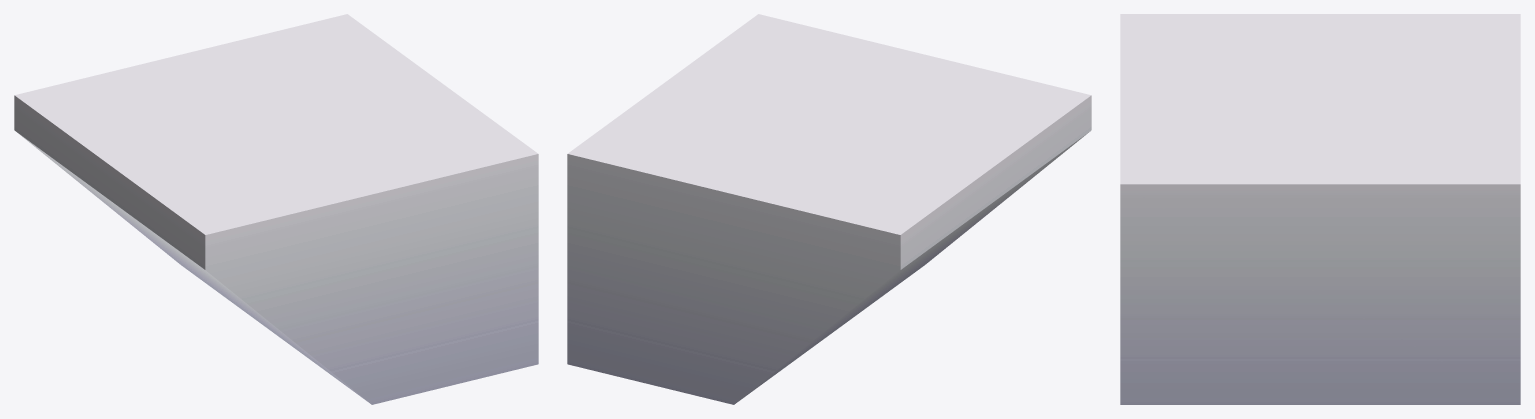
File: none-lq-brick-slope-inverted-2x2.glb
3 views of the same model, side by side, from view 1: azimuth 30°, elevation 25°; view 2: azimuth 150°, elevation 25°; view 3: azimuth 270°, elevation 25° (orthographic). The views are drawn at different scales.
Visible parts, largest first — view 1: none-lq-brick-slope-inverted-2x2; view 2: none-lq-brick-slope-inverted-2x2; view 3: none-lq-brick-slope-inverted-2x2.
Part boxes in pixels (x1,y1,x2,y2): none-lq-brick-slope-inverted-2x2: (14, 14, 538, 404); none-lq-brick-slope-inverted-2x2: (567, 14, 1091, 404); none-lq-brick-slope-inverted-2x2: (1120, 14, 1520, 404).
Size of the model in its own units: 0.159 by 0.096 by 0.158.
1 material, 1 textured.
